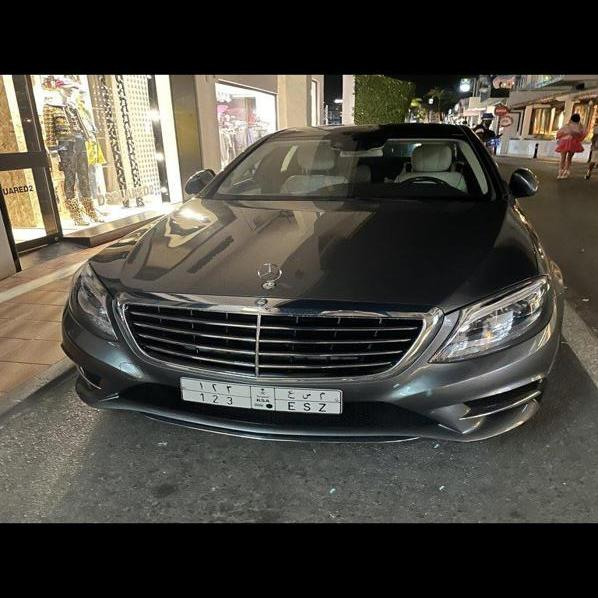numberplate: (180, 377, 342, 415)
